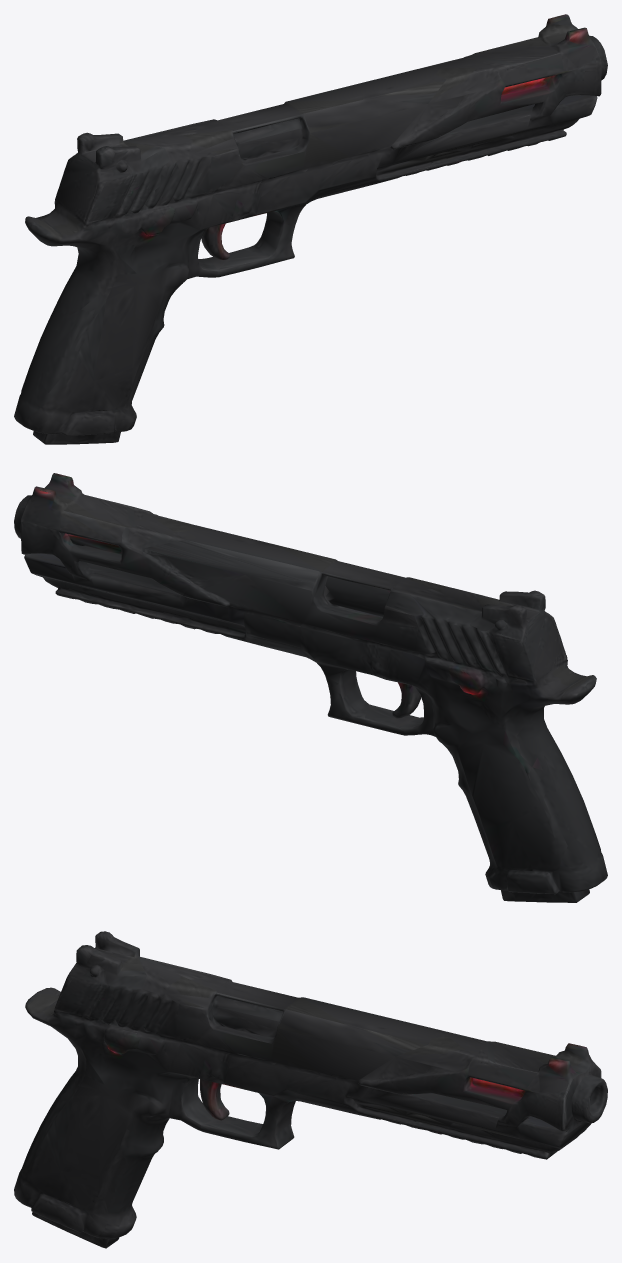
The model's file is pistol.glb.
3 renders of one model, top to bottom at view 1: azimuth 30°, elevation 25°; view 2: azimuth 150°, elevation 25°; view 3: azimuth 330°, elevation 25°, orthographic.
Visible parts, largest first — view 1: pistol; view 2: pistol; view 3: pistol.
Boxes of the visible parts, left/top/right/bottom form: pistol: left=14, top=14, right=607, bottom=444; pistol: left=14, top=473, right=607, bottom=902; pistol: left=14, top=931, right=607, bottom=1248.
Bounding box in the file's own units: 0.2401 × 0.1203 × 0.0281.
1 material, 1 textured.
